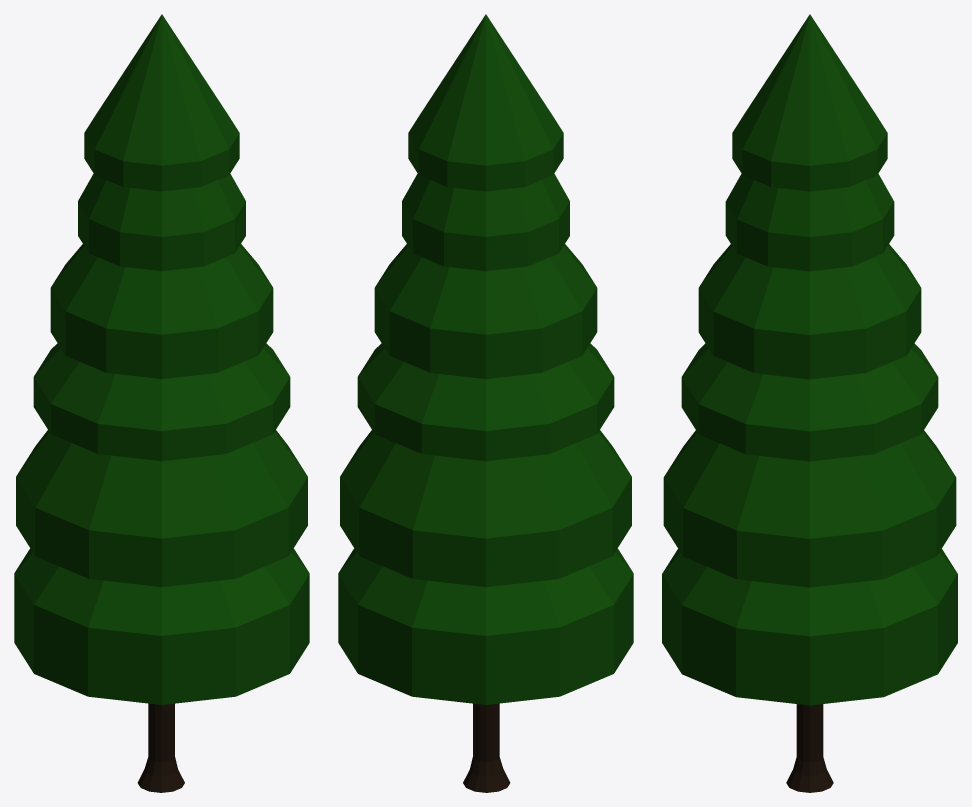
The model's file is tree3.1.fbx.
3 views of the same model, side by side, from view 1: azimuth 30°, elevation 25°; view 2: azimuth 150°, elevation 25°; view 3: azimuth 270°, elevation 25° (orthographic).
Visible parts, largest first — view 1: Tree; view 2: Tree; view 3: Tree.
Part boxes in pixels (left/top/right/bottom): Tree: left=14, top=14, right=309, bottom=792; Tree: left=338, top=14, right=633, bottom=792; Tree: left=662, top=14, right=957, bottom=792.
Bounding box in the file's own units: 488 × 1399 × 488.
